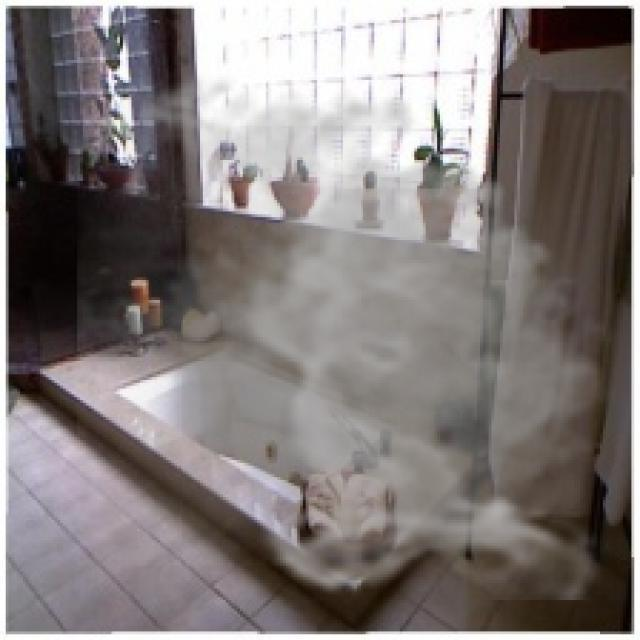Smoke: (77, 60, 626, 600)
